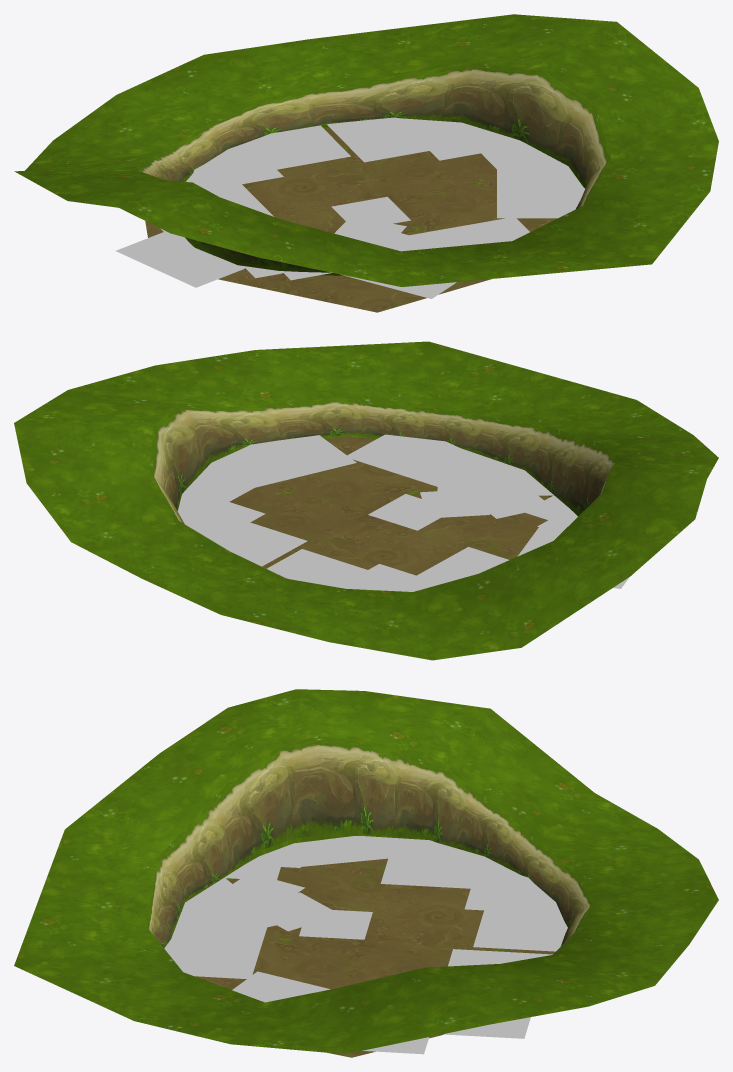
The model's file is loyalismwood_groundBOSS.FBX.
3 renders of one model, top to bottom at view 1: azimuth 30°, elevation 25°; view 2: azimuth 150°, elevation 25°; view 3: azimuth 270°, elevation 25°, orthographic. The views are drawn at different scales.
Visible parts, largest first — view 1: loyalismwood_groundBOSS_b, loyalismwood_groundBOSS, loyalismwood_groundBOSS_a; view 2: loyalismwood_groundBOSS_b, loyalismwood_groundBOSS, loyalismwood_groundBOSS_a; view 3: loyalismwood_groundBOSS_b, loyalismwood_groundBOSS, loyalismwood_groundBOSS_a.
Boxes of the visible parts, x1=… form: loyalismwood_groundBOSS_b: x1=14, y1=14, x2=718, y2=286; loyalismwood_groundBOSS: x1=116, y1=117, x2=584, y2=298; loyalismwood_groundBOSS_a: x1=145, y1=128, x2=557, y2=312; loyalismwood_groundBOSS_b: x1=14, y1=341, x2=718, y2=660; loyalismwood_groundBOSS: x1=177, y1=434, x2=629, y2=591; loyalismwood_groundBOSS_a: x1=229, y1=436, x2=549, y2=575; loyalismwood_groundBOSS_b: x1=14, y1=689, x2=718, y2=1054; loyalismwood_groundBOSS: x1=164, y1=836, x2=567, y2=1054; loyalismwood_groundBOSS_a: x1=195, y1=858, x2=555, y2=1057.
Size of the model in its own units: 6299 by 5712 by 858.
